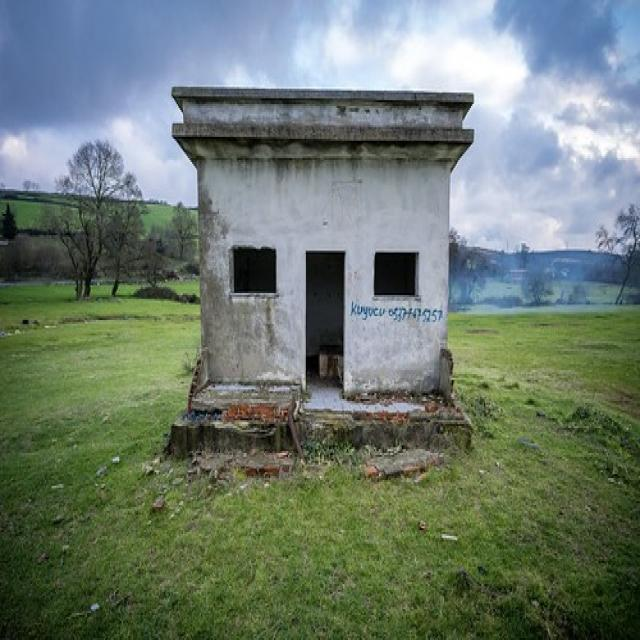Normal_building: (162, 79, 473, 468)
